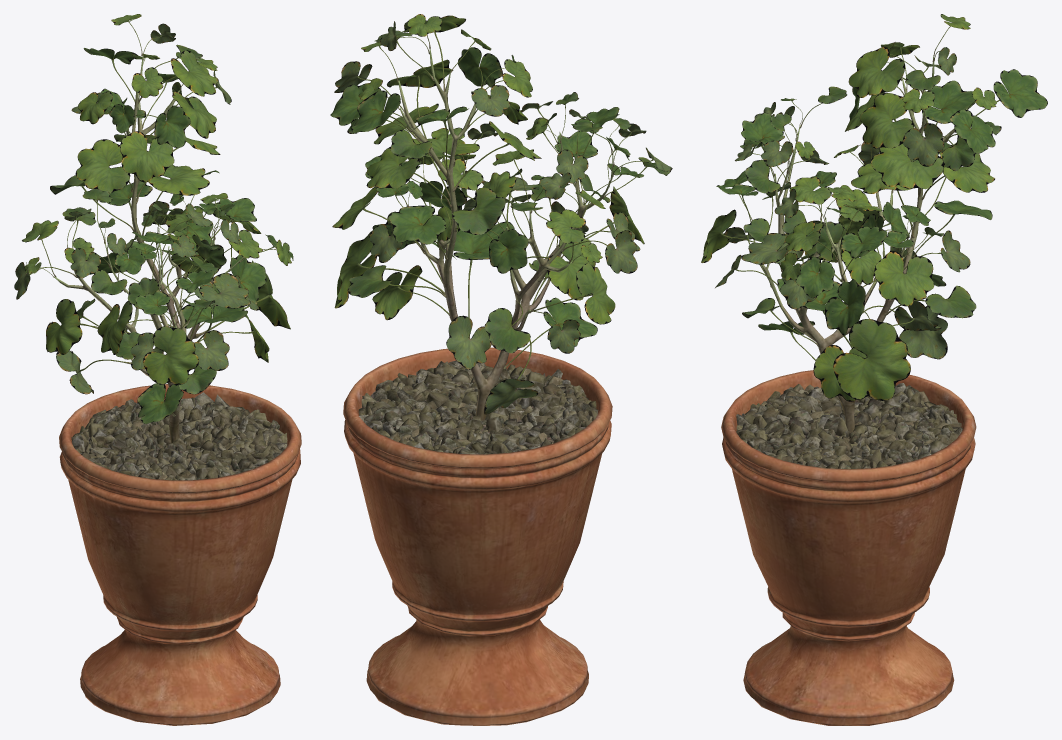
The model's file is potted_plant_01.glb.
The picture shows the model from 3 angles, left to right: view 1: azimuth 30°, elevation 25°; view 2: azimuth 150°, elevation 25°; view 3: azimuth 270°, elevation 25°; orthographic projection. The views are drawn at different scales.
Size of the model in its own units: 0.5874 by 1.34 by 0.6336.
Materials: 2 (2 with a texture image).
